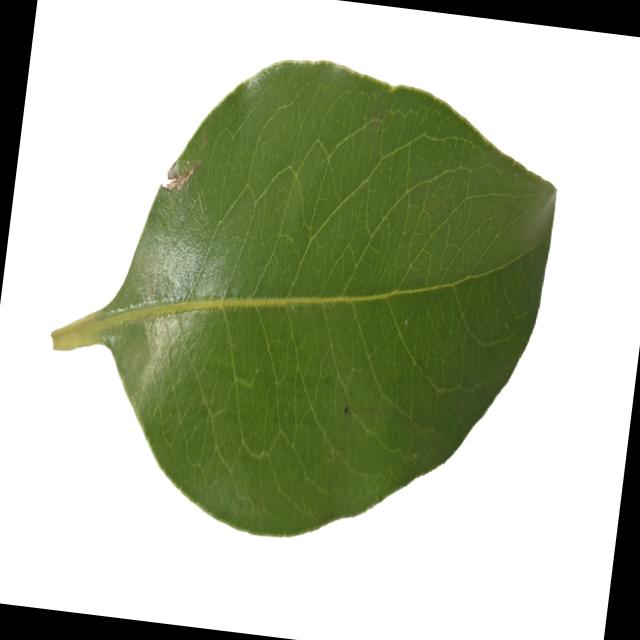Medicinal-Sandalwood: (31, 28, 568, 566)
